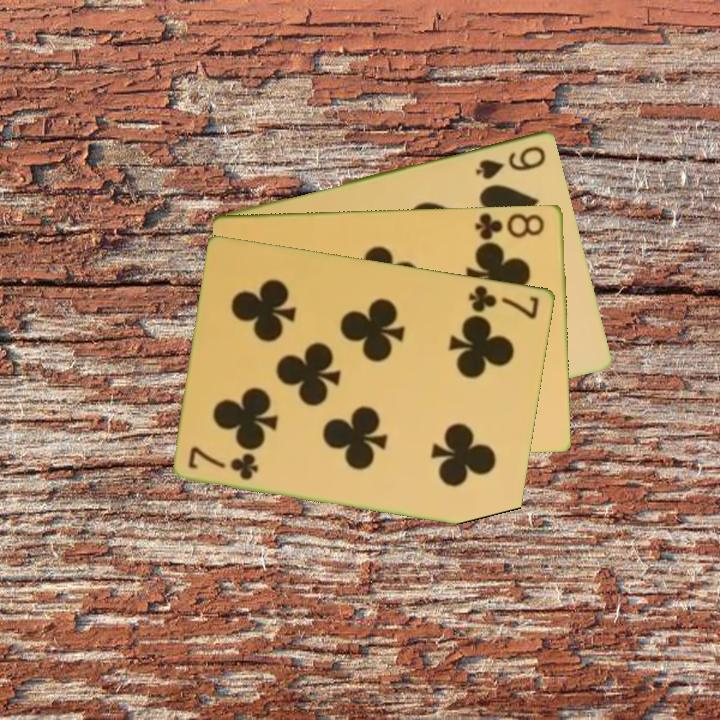7c: (465, 281, 543, 322), (185, 443, 262, 483)
8c: (472, 209, 548, 242)
9s: (472, 142, 549, 182)
